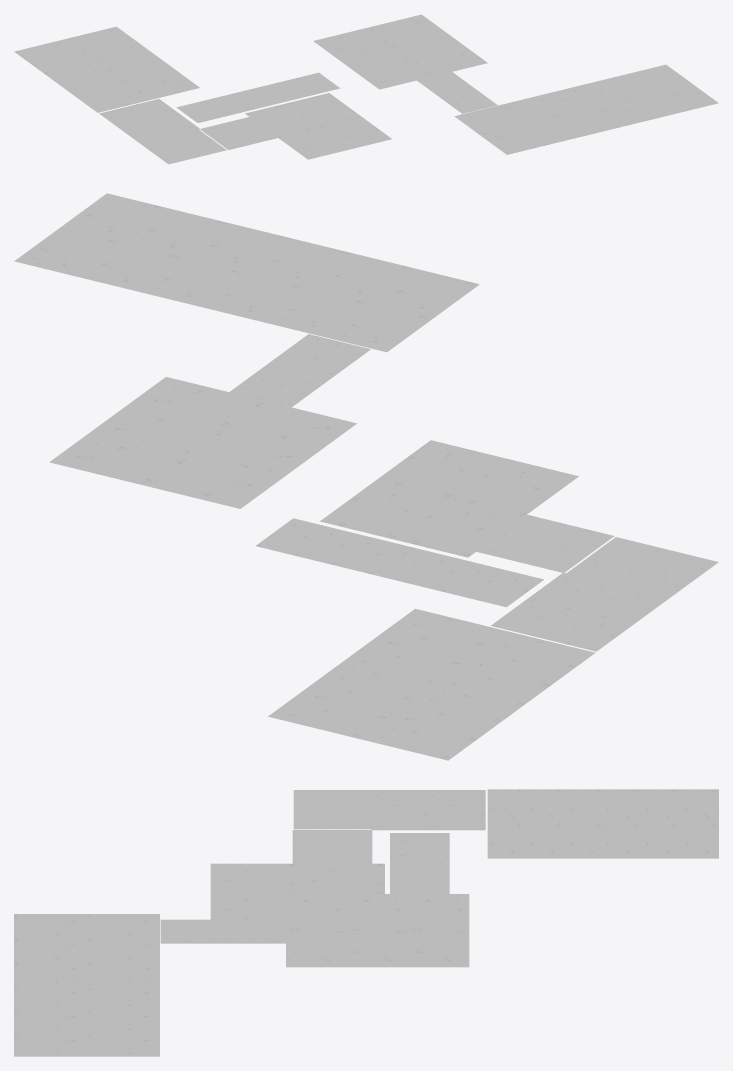
File: RoofJoined.fbx
The picture shows the model from 3 angles, top to bottom: view 1: azimuth 30°, elevation 25°; view 2: azimuth 150°, elevation 25°; view 3: azimuth 270°, elevation 25°; orthographic projection. The views are drawn at different scales.
Visible parts, largest first — view 1: Roof_09, Roof_01, Roof_07, Roof_05, Roof_06, Roof_02, Roof_03, Roof_08, Roof_04; view 2: Roof_09, Roof_01, Roof_07, Roof_05, Roof_06, Roof_02, Roof_03, Roof_08, Roof_04; view 3: Roof_09, Roof_01, Roof_07, Roof_05, Roof_02, Roof_06, Roof_03, Roof_08, Roof_04.
Boxes of the visible parts, x1,y1,x2,y2 form: Roof_09: (454,64,718,154); Roof_01: (14,26,199,112); Roof_07: (313,14,487,89); Roof_05: (245,93,391,159); Roof_06: (176,72,340,122); Roof_02: (99,99,199,143); Roof_03: (140,129,226,164); Roof_08: (417,72,497,113); Roof_04: (200,117,278,149); Roof_09: (14,193,479,352); Roof_01: (268,608,595,760); Roof_07: (49,377,356,508); Roof_05: (320,440,578,557); Roof_06: (256,518,543,607); Roof_02: (491,573,668,651); Roof_03: (567,537,718,598); Roof_08: (229,334,370,407); Roof_04: (476,514,614,572); Roof_09: (14,914,159,1056); Roof_01: (487,789,718,858); Roof_07: (286,894,469,967); Roof_05: (210,863,384,919); Roof_02: (371,790,485,830); Roof_06: (390,833,449,893); Roof_03: (293,790,371,829); Roof_08: (160,919,285,943); Roof_04: (292,830,372,863).
Bounding box in the file's own units: 159 × 8.82 × 157.
